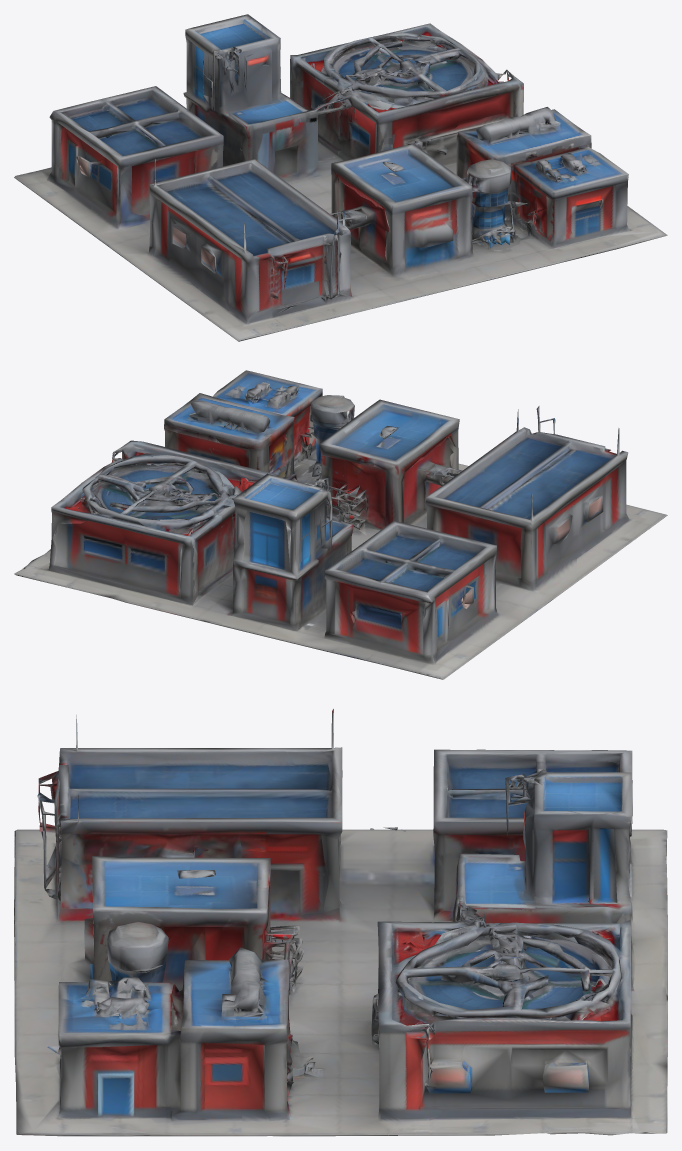
The model's file is Water_Processing_Faci_0605202140_texture.glb.
The picture shows the model from 3 angles, top to bottom: view 1: azimuth 30°, elevation 25°; view 2: azimuth 150°, elevation 25°; view 3: azimuth 270°, elevation 25°; orthographic projection. The views are drawn at different scales.
Bounding box in the file's own units: 2 × 0.6412 × 1.81.
1 material, 1 textured.
